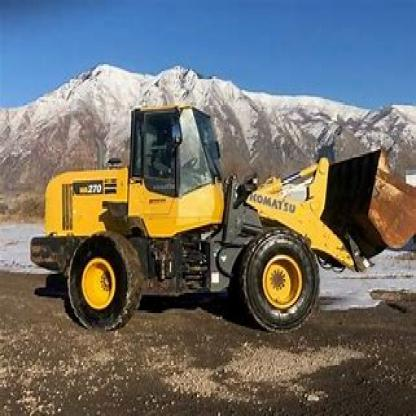bull_dozer/loader/grader: (27, 93, 415, 334)
